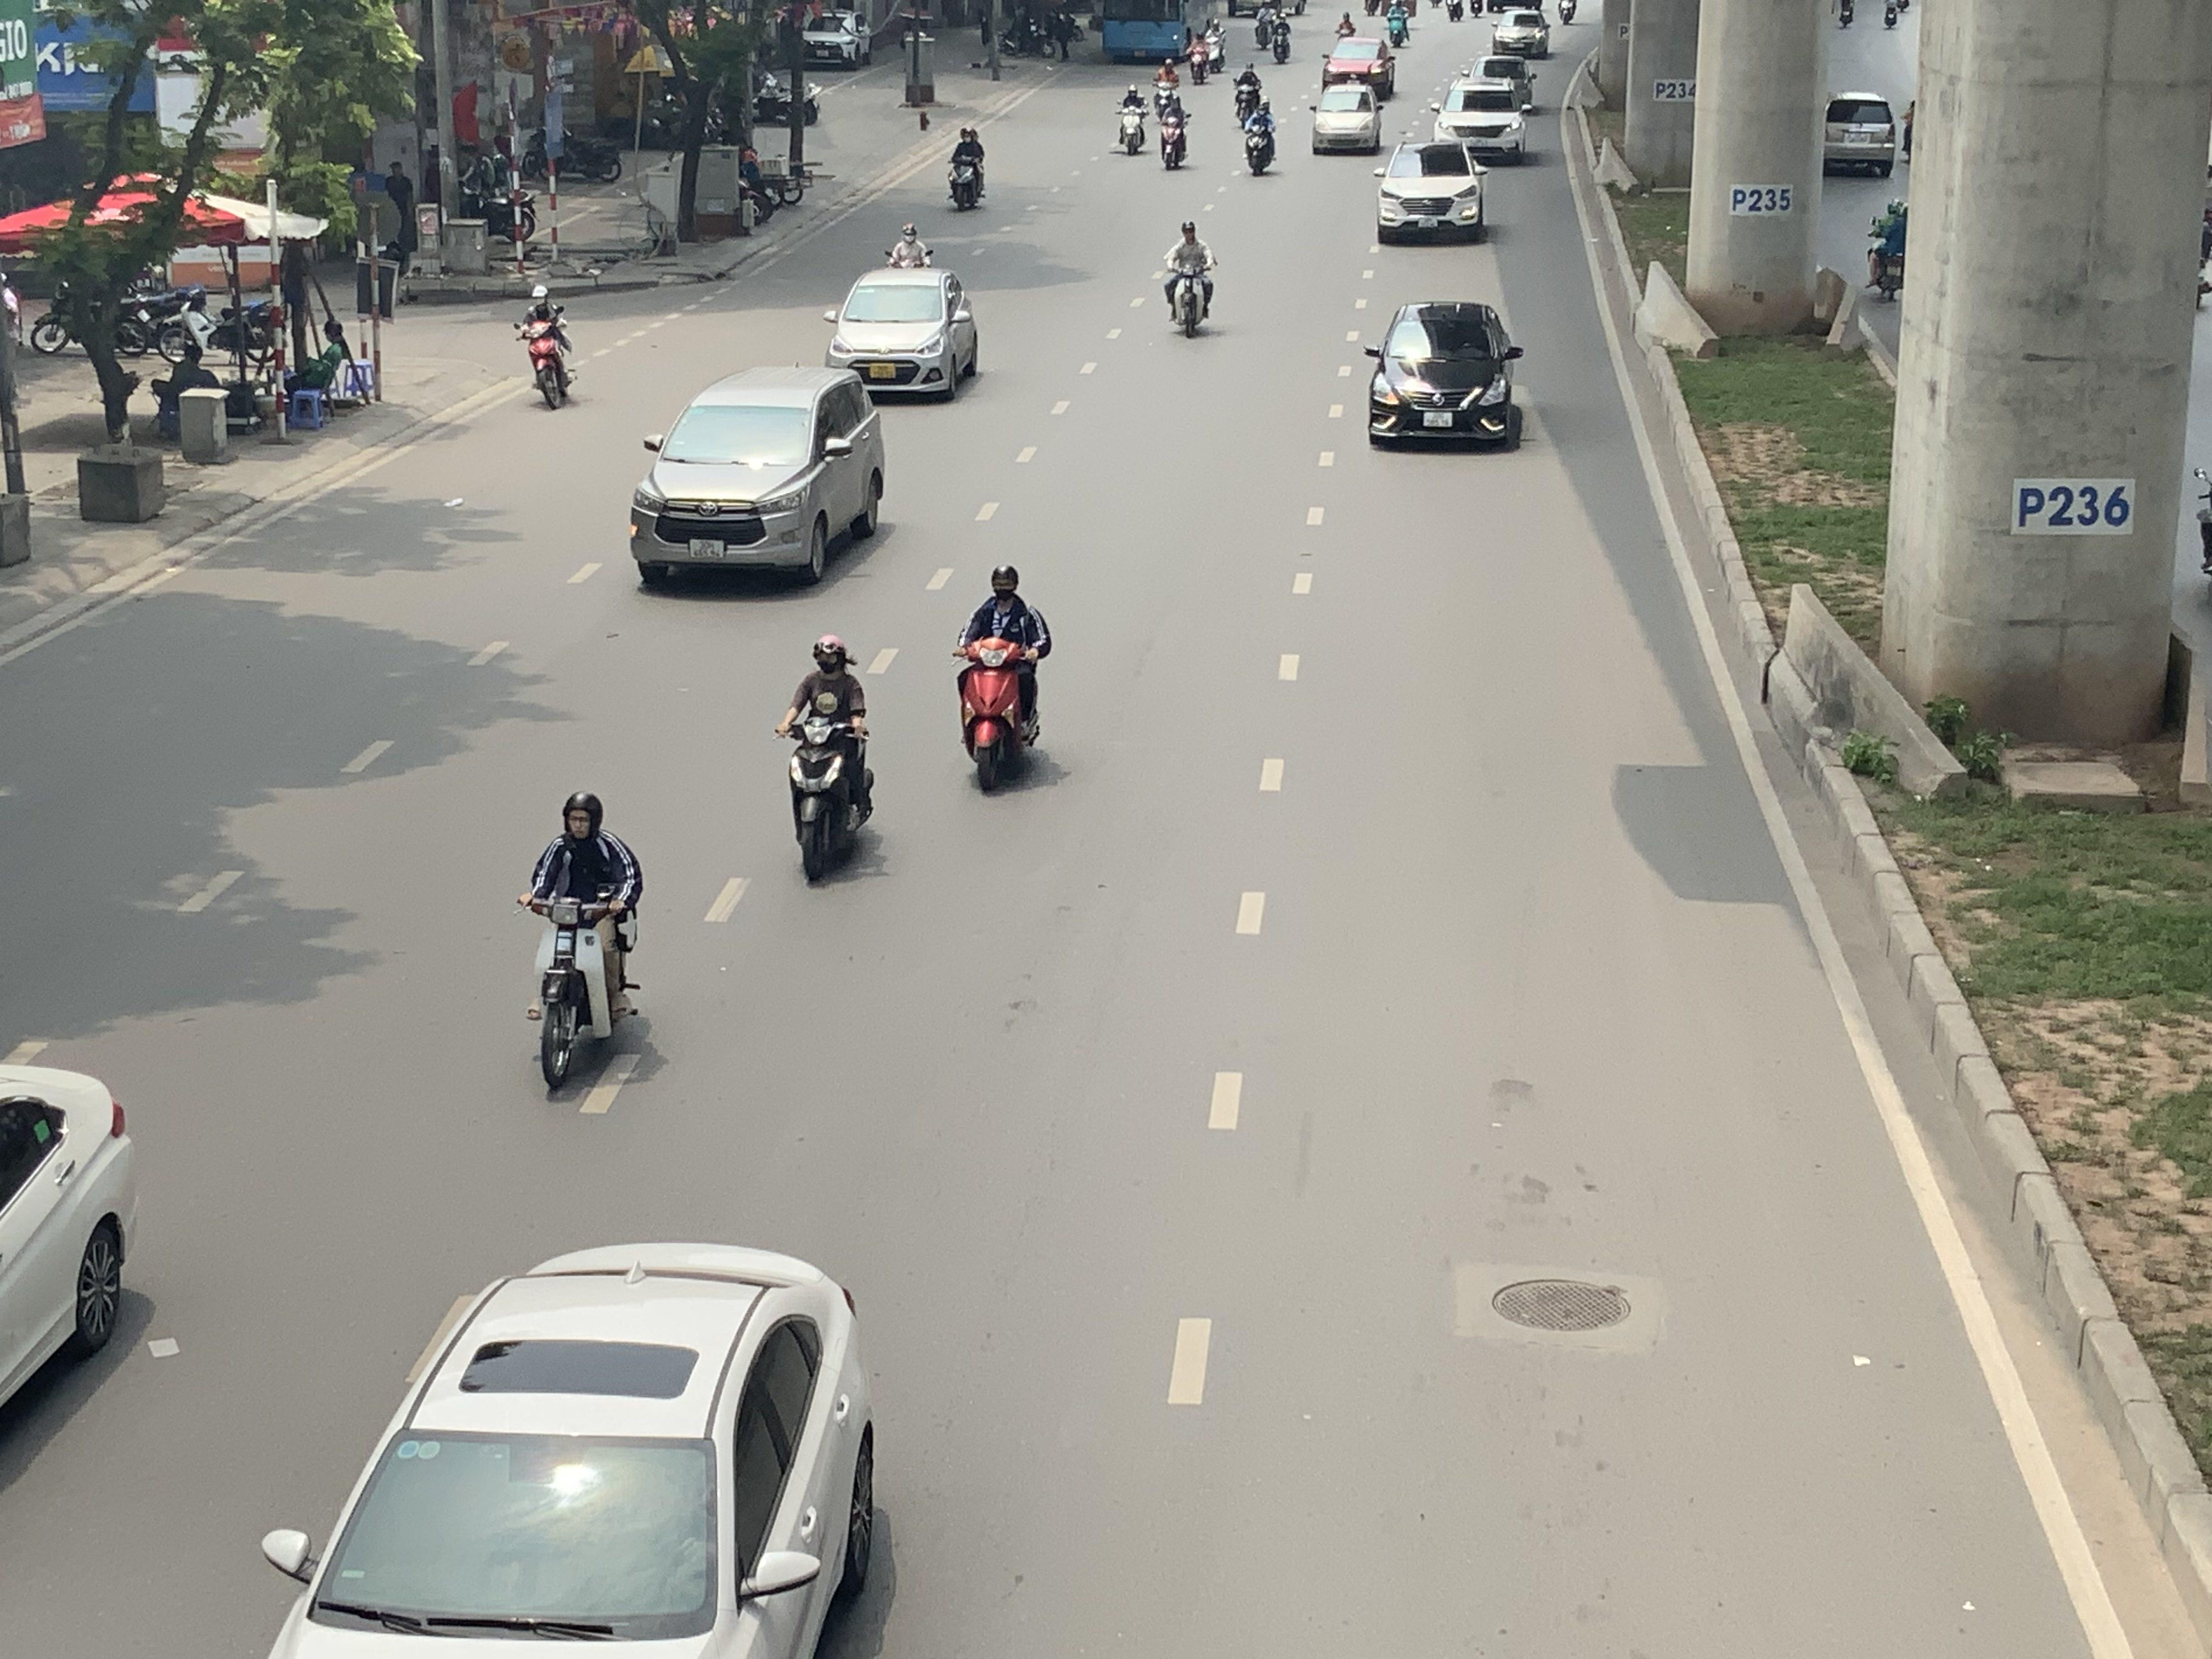BSV: (688, 538, 725, 559)
car: (239, 1241, 888, 1659), (627, 364, 888, 591), (1362, 300, 1526, 451), (826, 267, 981, 403), (1374, 141, 1489, 246), (1430, 78, 1531, 164), (1820, 92, 1898, 176), (1308, 84, 1385, 155), (1324, 37, 1399, 101), (799, 12, 873, 68), (1489, 5, 1552, 58)
motorbike: (523, 791, 643, 1098), (777, 636, 876, 887), (954, 565, 1050, 795), (519, 288, 577, 410), (1163, 220, 1216, 338), (1867, 193, 1905, 303), (946, 122, 988, 213), (1240, 94, 1278, 176), (1157, 84, 1191, 169), (1115, 77, 1150, 155), (1231, 59, 1264, 119), (1188, 24, 1217, 84), (1383, 0, 1414, 49), (1268, 7, 1292, 64)
